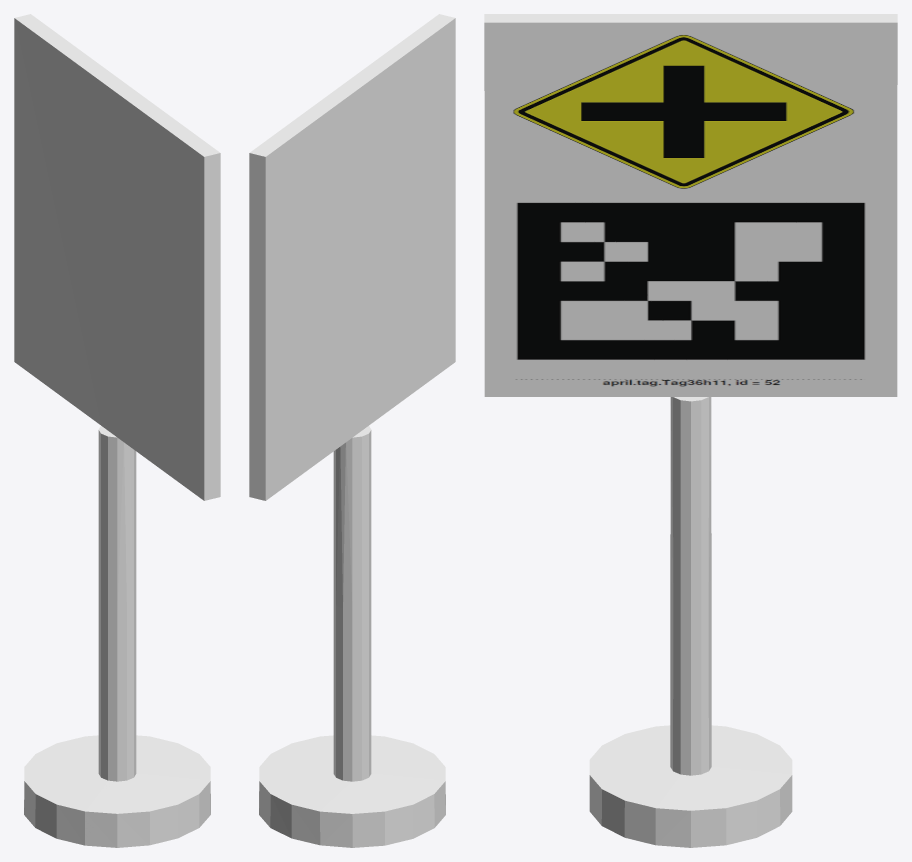
Rendered from tag_52.dae.
3 renders of one model, left to right at view 1: azimuth 30°, elevation 25°; view 2: azimuth 150°, elevation 25°; view 3: azimuth 270°, elevation 25°, orthographic. The views are drawn at different scales.
Visible parts, largest first — view 1: Tag; view 2: Tag; view 3: Tag.
Part boxes in pixels (x1,y1,x2,y2): Tag: (14, 14, 220, 847); Tag: (249, 14, 455, 847); Tag: (484, 14, 897, 847).
Bounding box in the file's own units: 0.05 × 0.1002 × 0.2104.
1 material, 1 textured.
